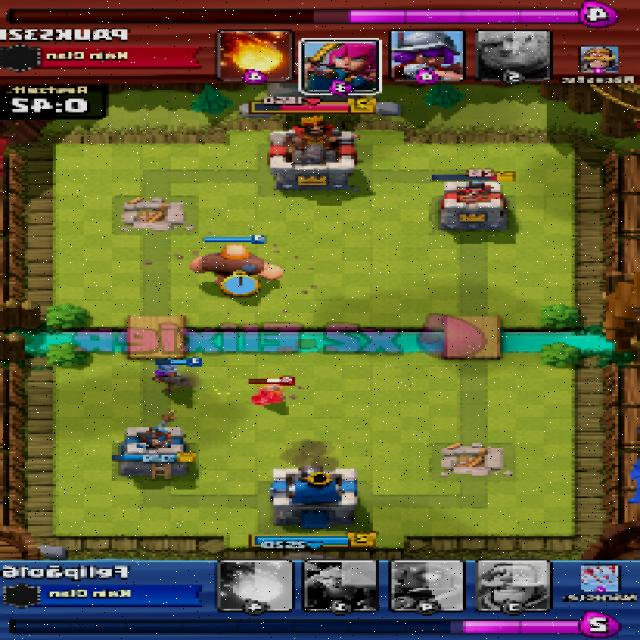Enemy-MiniPEKKA: (250, 381, 288, 405)
Player-Giant: (188, 242, 284, 287)
Player-Musketeer: (152, 363, 191, 383)
